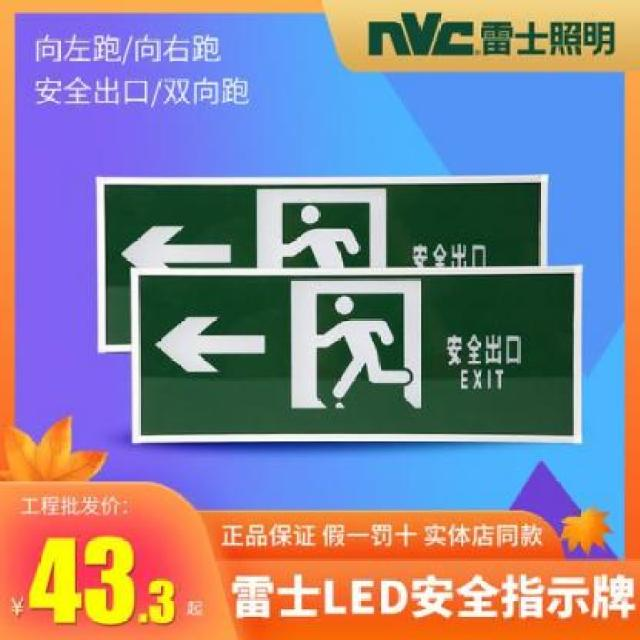exit_sign: (96, 168, 592, 448)
